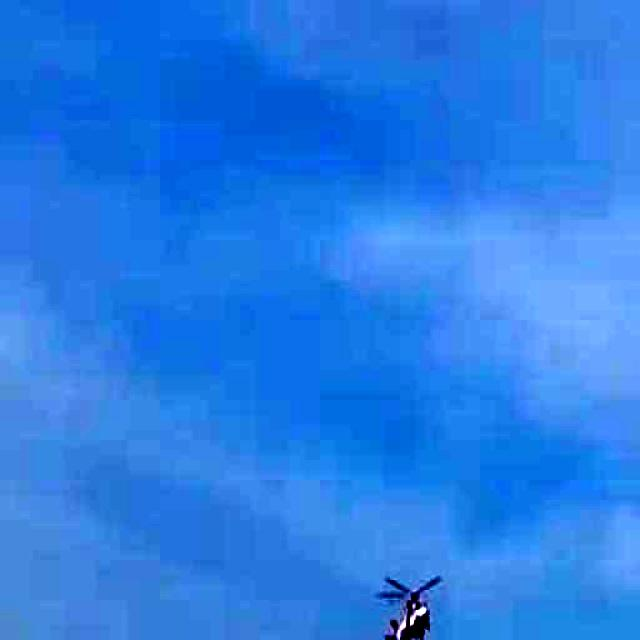drone: (365, 568, 451, 640)
